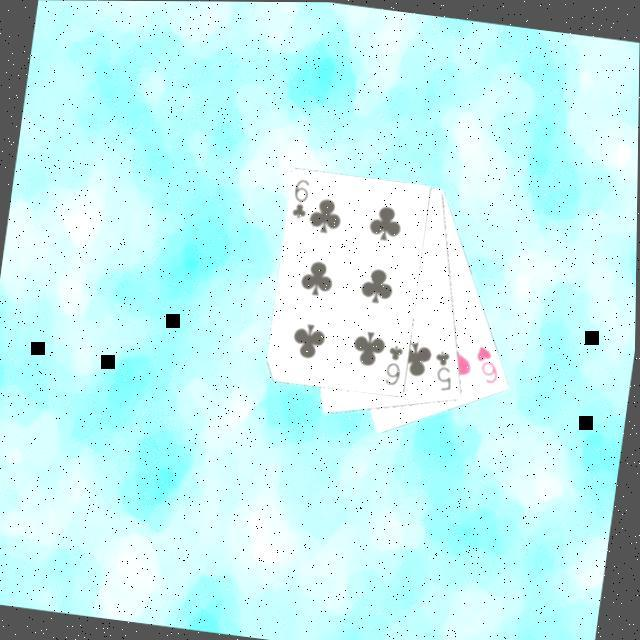5C: (428, 346, 461, 395)
6C: (288, 176, 315, 223), (383, 342, 409, 390)
6H: (471, 342, 506, 388)
